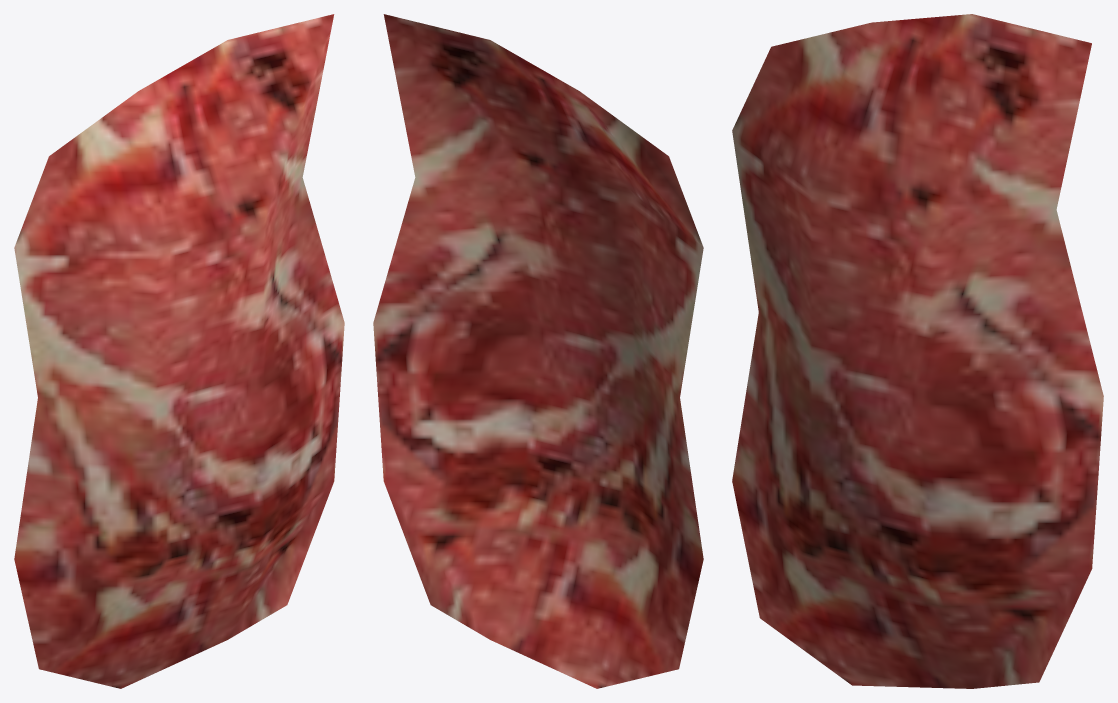
File: celt_kennel_props_beef.dae
3 renders of one model, left to right at view 1: azimuth 30°, elevation 25°; view 2: azimuth 150°, elevation 25°; view 3: azimuth 330°, elevation 25°, orthographic. The views are drawn at different scales.
Visible parts, largest first — view 1: Plane05; view 2: Plane05; view 3: Plane05.
Boxes of the visible parts, x1,y1,x2,y2 form: Plane05: (14,14,344,688); Plane05: (373,14,703,688); Plane05: (732,14,1103,688).
Bounding box in the file's own units: 0.8556 × 0.1612 × 1.54.
